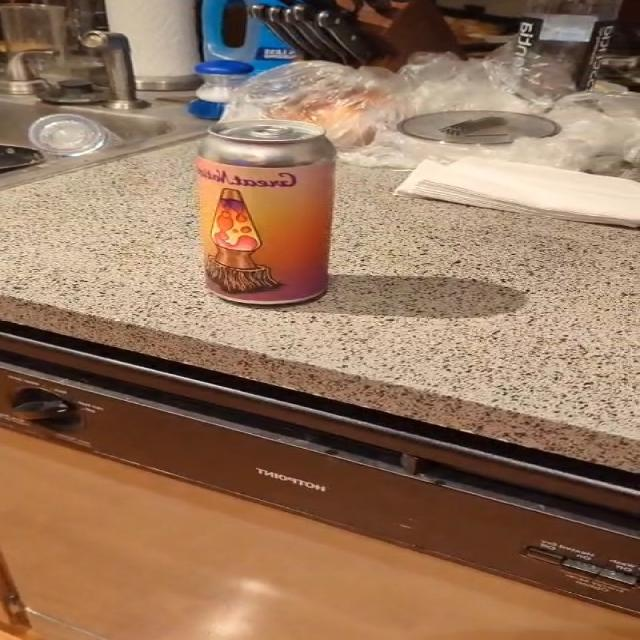metal: (195, 120, 335, 305)
